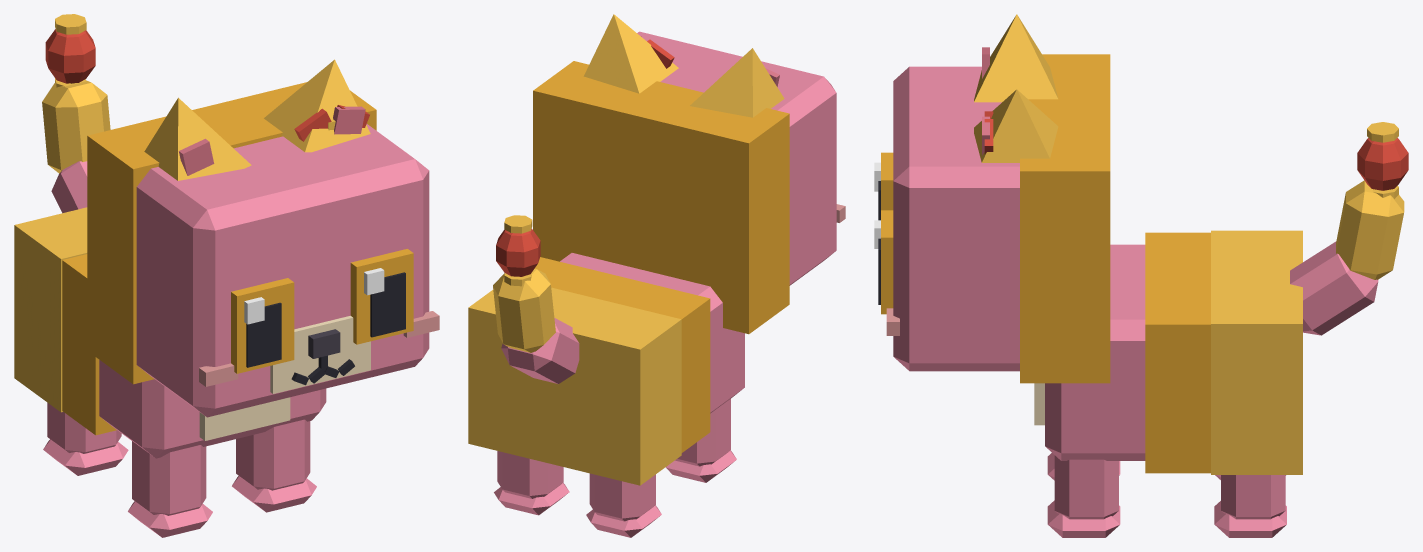
The model's file is CatCafe_Cat_PaperLantern.glb.
3 views of the same model, side by side, from view 1: azimuth 30°, elevation 25°; view 2: azimuth 150°, elevation 25°; view 3: azimuth 270°, elevation 25° (orthographic). The views are drawn at different scales.
Parts seen in each view (by area): view 1: CatCafe_Cat_PaperLantern_Head, CatCafe_Cat_PaperLantern_Body, CatCafe_Cat_PaperLantern_LegF2, CatCafe_Cat_PaperLantern_Tail, CatCafe_Cat_PaperLantern_LegF1, CatCafe_Cat_PaperLantern_Eye2, CatCafe_Cat_PaperLantern_Eye1, CatCafe_Cat_PaperLantern_EarL, CatCafe_Cat_PaperLantern_EarR, CatCafe_Cat_PaperLantern_LegB2, CatCafe_Cat_PaperLantern_Tail_Glow, CatCafe_Cat_PaperLantern_Prop; view 2: CatCafe_Cat_PaperLantern_Head, CatCafe_Cat_PaperLantern_Body, CatCafe_Cat_PaperLantern_Tail, CatCafe_Cat_PaperLantern_EarL, CatCafe_Cat_PaperLantern_LegB2, CatCafe_Cat_PaperLantern_EarR, CatCafe_Cat_PaperLantern_LegB1, CatCafe_Cat_PaperLantern_LegF2, CatCafe_Cat_PaperLantern_Tail_Glow; view 3: CatCafe_Cat_PaperLantern_Head, CatCafe_Cat_PaperLantern_Body, CatCafe_Cat_PaperLantern_Tail, CatCafe_Cat_PaperLantern_LegF1, CatCafe_Cat_PaperLantern_EarR, CatCafe_Cat_PaperLantern_LegB1, CatCafe_Cat_PaperLantern_EarL, CatCafe_Cat_PaperLantern_Tail_Glow, CatCafe_Cat_PaperLantern_Eye1, CatCafe_Cat_PaperLantern_Eye2.
Part boxes in pixels (box(x1,y1,x2,y2)): CatCafe_Cat_PaperLantern_Head: box(87, 82, 439, 417); CatCafe_Cat_PaperLantern_Body: box(14, 207, 326, 458); CatCafe_Cat_PaperLantern_LegF2: box(128, 441, 212, 537); CatCafe_Cat_PaperLantern_Tail: box(42, 80, 110, 213); CatCafe_Cat_PaperLantern_LegF1: box(232, 419, 316, 512); CatCafe_Cat_PaperLantern_Eye2: box(231, 278, 294, 373); CatCafe_Cat_PaperLantern_Eye1: box(350, 249, 413, 344); CatCafe_Cat_PaperLantern_EarL: box(264, 59, 370, 152); CatCafe_Cat_PaperLantern_EarR: box(144, 97, 251, 180); CatCafe_Cat_PaperLantern_LegB2: box(43, 402, 128, 475); CatCafe_Cat_PaperLantern_Tail_Glow: box(45, 14, 95, 87); CatCafe_Cat_PaperLantern_Prop: box(294, 105, 369, 141); CatCafe_Cat_PaperLantern_Head: box(533, 31, 845, 334); CatCafe_Cat_PaperLantern_Body: box(468, 253, 744, 485); CatCafe_Cat_PaperLantern_Tail: box(493, 268, 579, 383); CatCafe_Cat_PaperLantern_EarL: box(583, 14, 678, 93); CatCafe_Cat_PaperLantern_LegB2: box(586, 473, 661, 537); CatCafe_Cat_PaperLantern_EarR: box(690, 48, 784, 117); CatCafe_Cat_PaperLantern_LegB1: box(494, 451, 569, 515); CatCafe_Cat_PaperLantern_LegF2: box(666, 398, 736, 482); CatCafe_Cat_PaperLantern_Tail_Glow: box(496, 215, 540, 286); CatCafe_Cat_PaperLantern_Head: box(886, 54, 1110, 383); CatCafe_Cat_PaperLantern_Body: box(1034, 230, 1302, 474); CatCafe_Cat_PaperLantern_Tail: box(1290, 180, 1404, 335); CatCafe_Cat_PaperLantern_LegF1: box(1047, 455, 1120, 537); CatCafe_Cat_PaperLantern_EarR: box(974, 14, 1058, 102); CatCafe_Cat_PaperLantern_LegB1: box(1214, 475, 1286, 537); CatCafe_Cat_PaperLantern_EarL: box(974, 89, 1058, 162); CatCafe_Cat_PaperLantern_Tail_Glow: box(1357, 122, 1408, 198); CatCafe_Cat_PaperLantern_Eye1: box(874, 210, 893, 314); CatCafe_Cat_PaperLantern_Eye2: box(874, 152, 893, 220).
Size of the model in its own units: 1.03 by 1.86 by 1.99.
1 material, 1 textured.
